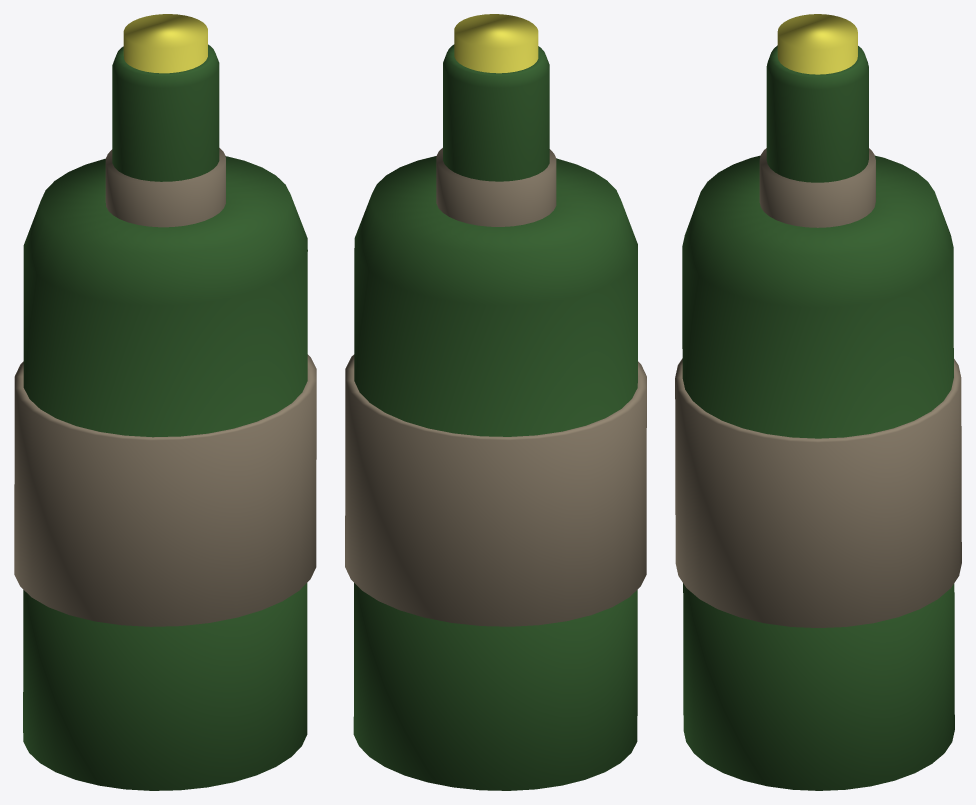
The model's file is bottle.fbx.
3 views of the same model, side by side, from view 1: azimuth 30°, elevation 25°; view 2: azimuth 150°, elevation 25°; view 3: azimuth 270°, elevation 25° (orthographic).
Visible parts, largest first — view 1: Cylinder.001; view 2: Cylinder.001; view 3: Cylinder.001.
Part boxes in pixels (bbox=[...]): Cylinder.001: bbox=[14, 14, 316, 790]; Cylinder.001: bbox=[345, 14, 646, 790]; Cylinder.001: bbox=[675, 14, 961, 790].
Size of the model in its own units: 50.5 by 127 by 47.21.
